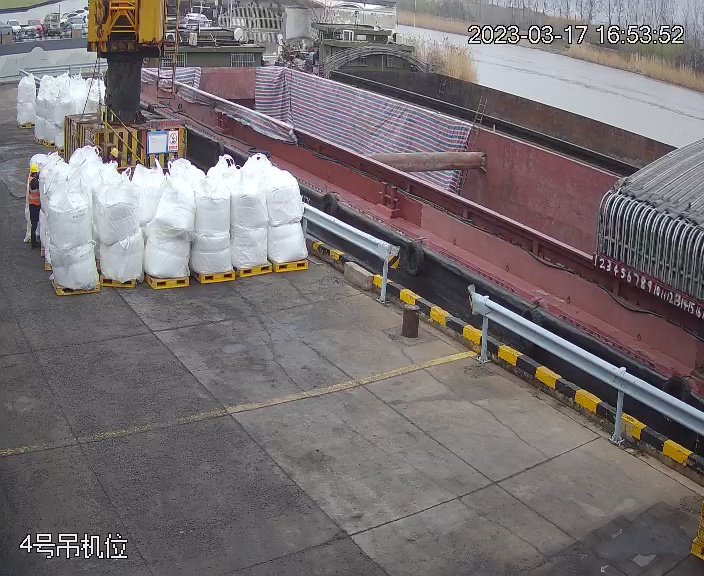head: (26, 161, 42, 189)
helmet: (29, 162, 41, 173)
people: (23, 160, 43, 251)
